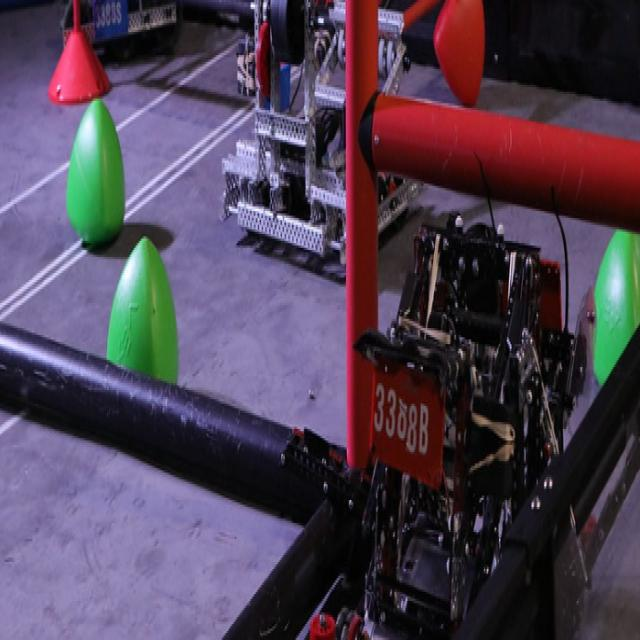License-Plates: (368, 366, 447, 486), (91, 0, 128, 35)
